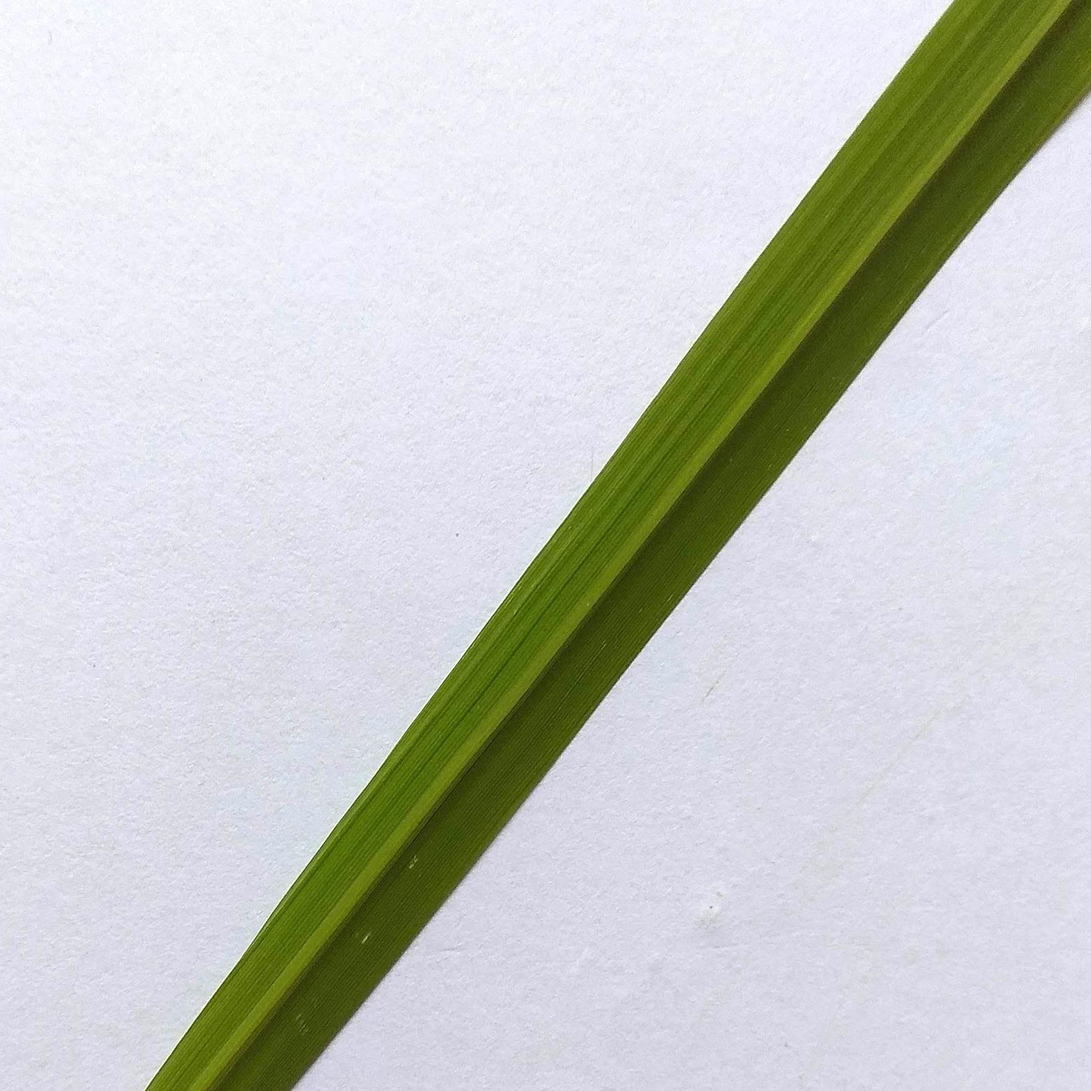Healthy: (147, 0, 1090, 1090)
